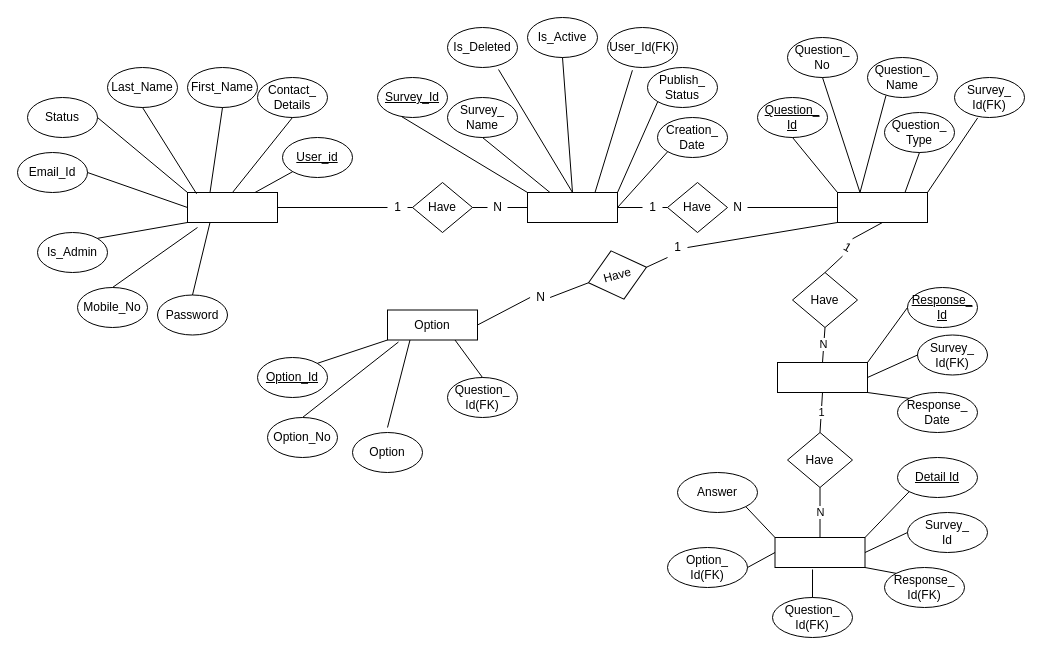
The diagram is 1042 pixels wide and 655 high, and some of its shapes have lost their labels. The centre of each missing label's shape, as x and y in pixels:
"Master_ Response" goes at point (822, 377).
"Question" goes at point (882, 207).
"Response_ Detail" goes at point (819, 552).
"Survey" goes at point (572, 207).
"User" goes at point (232, 207).
